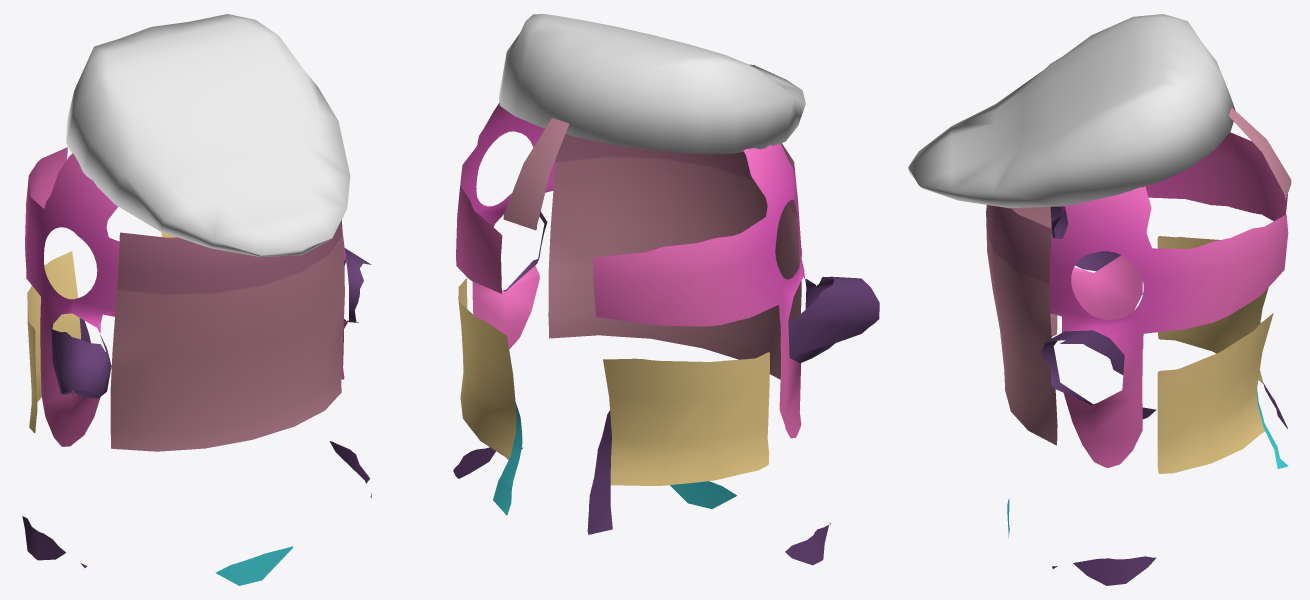
Rendered from MOD_Opa_Duwen_V1.fbx.
3 renders of one model, left to right at view 1: azimuth 30°, elevation 25°; view 2: azimuth 150°, elevation 25°; view 3: azimuth 270°, elevation 25°, orthographic. The views are drawn at different scales.
Visible parts, largest first — view 1: Sphere.003, Cylinder.007; view 2: Sphere.003, Cylinder.007; view 3: Sphere.003, Cylinder.007.
Boxes of the visible parts, x1,y1,x2,y2 form: Sphere.003: (22, 147, 371, 585); Cylinder.007: (66, 14, 350, 256); Sphere.003: (453, 103, 879, 565); Cylinder.007: (499, 14, 805, 153); Sphere.003: (986, 108, 1291, 585); Cylinder.007: (908, 14, 1235, 208).
Size of the model in its own units: 219 by 288 by 209.
